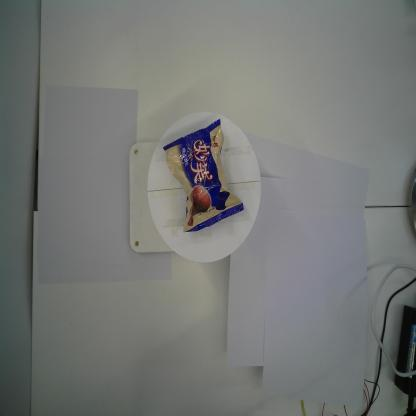Dessert: (160, 119, 244, 239)
